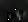person: (21, 8, 27, 20), (8, 13, 13, 22), (16, 9, 20, 18)
